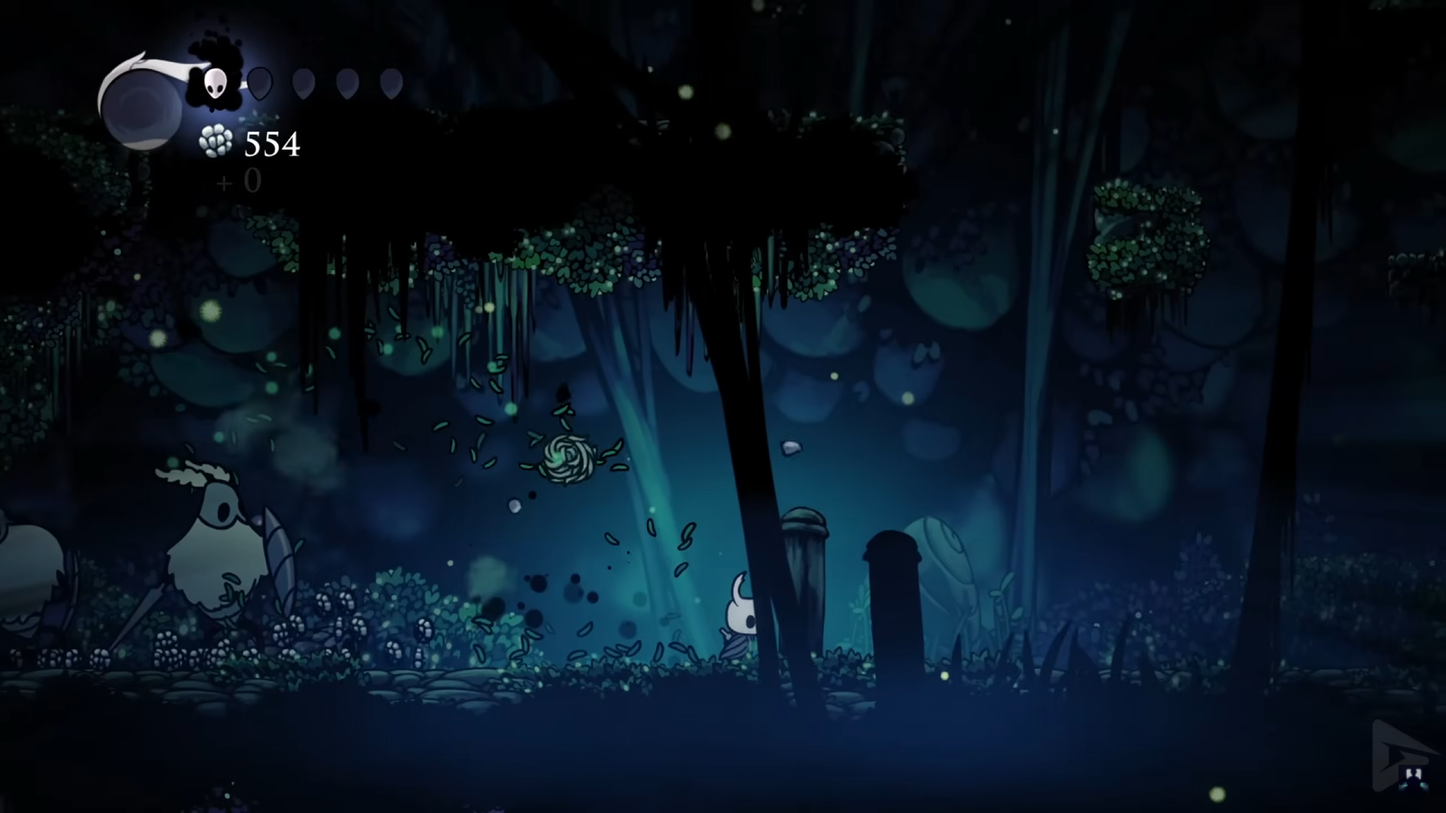HK: (715, 567, 772, 666)
